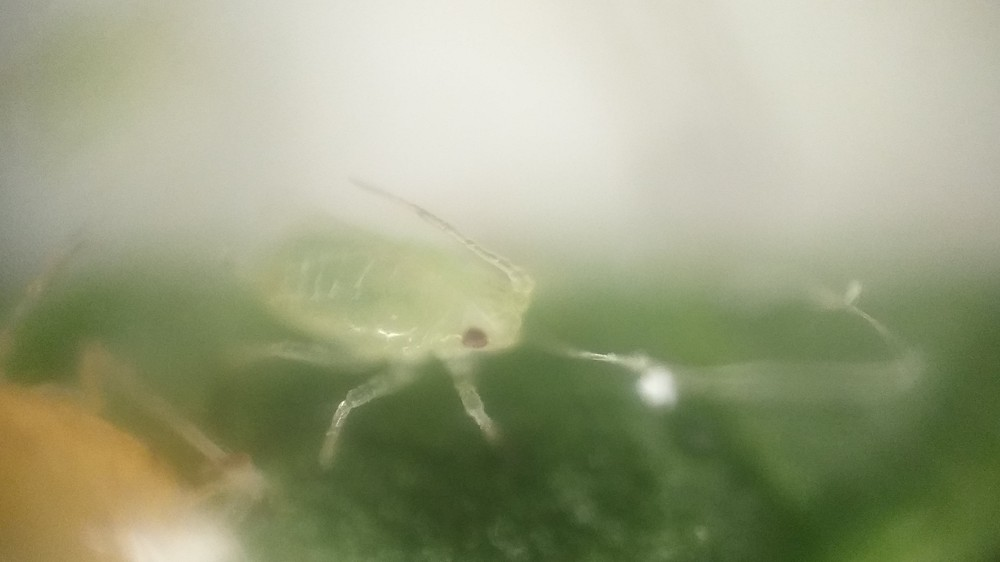Pulgon: (210, 173, 597, 463)
